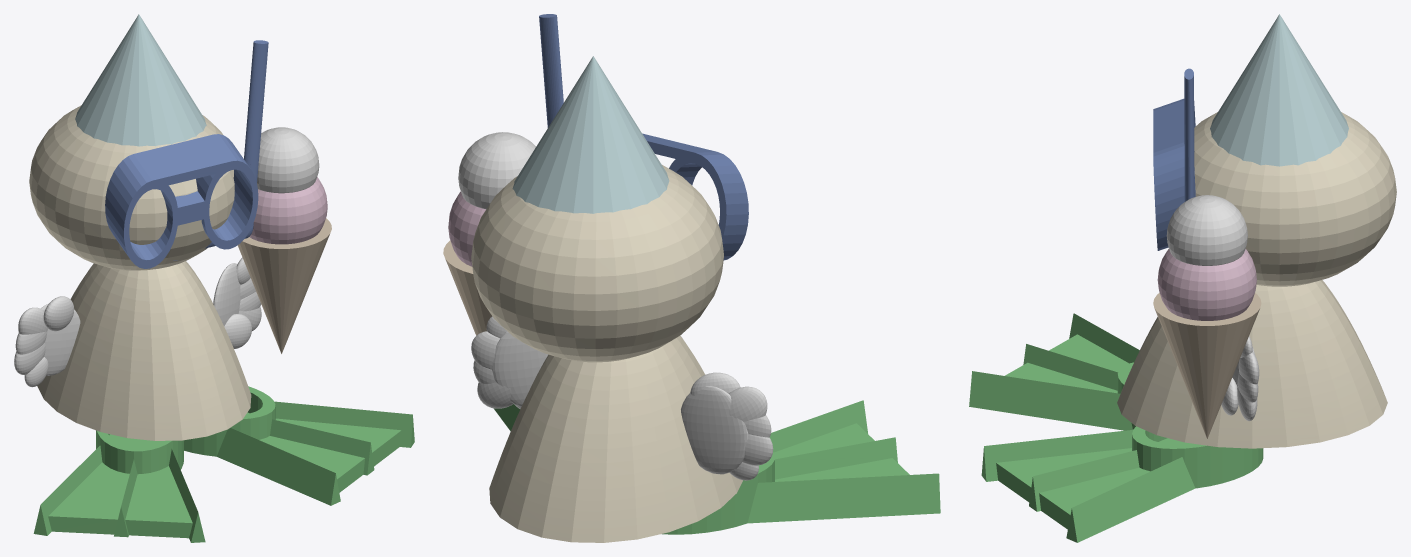
File: scuba.glb
3 views of the same model, side by side, from view 1: azimuth 30°, elevation 25°; view 2: azimuth 150°, elevation 25°; view 3: azimuth 270°, elevation 25° (orthographic). The views are drawn at different scales.
Parts seen in each view (by area): view 1: Mesh_Mesh_head_geo.001_lambert2SG.001; view 2: Mesh_Mesh_head_geo.001_lambert2SG.001; view 3: Mesh_Mesh_head_geo.001_lambert2SG.001.
Boxes of the visible parts, x1,y1,x2,y2 form: Mesh_Mesh_head_geo.001_lambert2SG.001: (14, 14, 414, 542); Mesh_Mesh_head_geo.001_lambert2SG.001: (443, 14, 940, 542); Mesh_Mesh_head_geo.001_lambert2SG.001: (969, 14, 1396, 542).
Bounding box in the file's own units: 52.25 × 53 × 47.39.
